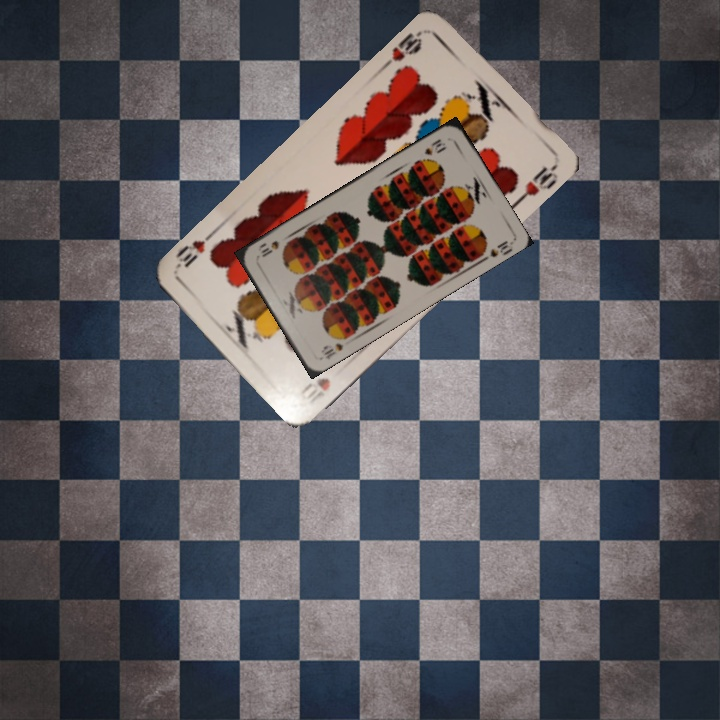H10: (378, 27, 425, 71), (294, 373, 333, 406)
S10: (317, 331, 351, 362), (420, 135, 449, 158)
